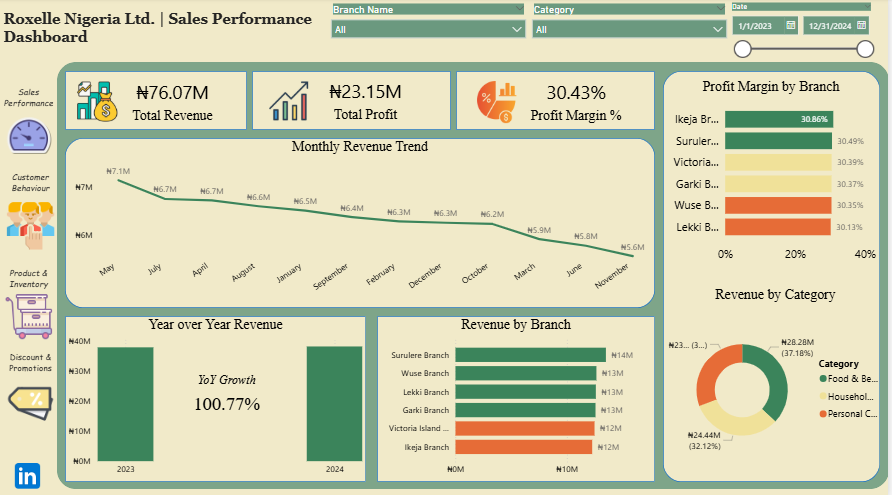

The dashboard page shown, as its layout file describes it:
{"tool":"powerbi","page":{"name":"Sales Performance","canvas":[1280,720],"ordinal":0},"visuals":[{"type":"shape","box":[82.1,92.2,1198.1,614.9],"z":0},{"type":"shape","box":[954.7,105.1,312.5,591.8],"z":1000},{"type":"shape","box":[93.6,201.6,849.6,244.8],"z":2000},{"type":"shape","box":[93.6,457.9,433.4,239],"z":3000},{"type":"shape","box":[542.9,457.9,400.3,239],"z":4000},{"type":"shape","box":[93.6,105.1,262.1,85],"z":5000},{"type":"slicer","fields":{"Values":["branches.Branch Name"]},"box":[466.6,2.9,301,90.7],"z":6000},{"type":"slicer","fields":{"Values":["date.Date"]},"box":[1041.1,1.4,226.1,92.2],"z":7000},{"type":"slicer","fields":{"Values":["products.Category"]},"box":[756,2.9,301,90.7],"z":8000},{"type":"shape","box":[362.9,105.1,286.6,85],"z":9000},{"type":"shape","box":[656.6,105.1,286.6,85],"z":10000},{"type":"card","title":"Total Revenue","fields":{"Values":["Measure.Total Revenue"]},"box":[141.1,105.1,214.6,85],"z":11000},{"type":"card","title":"Total Profit","fields":{"Values":["Measure.Total Profit"]},"box":[403.2,102.2,246.2,87.8],"z":12000},{"type":"card","title":"Profit Margin","fields":{"Values":["Measure.Profit Margin %"]},"box":[715.7,105.1,227.5,85],"z":13000},{"type":"lineChart","title":"Monthly Revenue Trend","fields":{"Category":["date.Date.Variation.Date Hierarchy.Month"],"Y":["Measure.Total Revenue"]},"box":[93.6,201.6,849.6,241.9],"z":14000},{"type":"clusteredBarChart","title":"Profit Margin by Branch","fields":{"Category":["branches.Branch Name"],"Y":["Measure.Profit Margin %"]},"box":[953.3,115.2,313.9,273.6],"z":15000},{"type":"donutChart","title":" Revenue by Category","fields":{"Category":["products.Category"],"Y":["Measure.Total Revenue"]},"box":[953.3,414.7,326.9,282.2],"z":16000},{"type":"clusteredBarChart","title":"Revenue by Branch","fields":{"Y":["Measure.Total Revenue"],"Category":["branches.Branch Name"]},"box":[542.9,457.9,400.3,239],"z":17000},{"type":"clusteredColumnChart","title":"Year over Year Revenue","fields":{"Category":["date.Date.Variation.Date Hierarchy.Year"],"Y":["Measure.Total Revenue"]},"box":[93.6,457.9,433.4,239],"z":18000},{"type":"card","title":"YoY Growth","fields":{"Values":["Measure.YoY Revenue %"]},"box":[82.1,541.4,488.2,70.6],"z":19000},{"type":"textbox","box":[0,13,466.6,79.2],"z":20000},{"type":"image","box":[105.1,115.2,70.6,67.7],"z":21000},{"type":"image","box":[365.8,115.2,100.8,66.2],"z":22000},{"type":"image","box":[676.8,112.3,77.8,74.9],"z":23000},{"type":"image","title":"Sales Performance","box":[0,126.7,82.1,110.9],"z":24000},{"type":"image","title":"Customer Behaviour","box":[0,249.6,87.8,125.3],"z":26000},{"type":"image","title":"Product & Inventory","box":[0,386.9,82.1,109.4],"z":27000},{"type":"image","title":"Discount & Promotions","box":[0,508.3,87.8,119.5],"z":27001},{"type":"image","box":[10.1,656.6,59,63.4],"z":27002}]}

Visuals, with their boxes in screenshot pixels (x1, y1, x2, y2), scaled from the page's 1280x720 canvas onto the 892x495 screenshot:
shape: [x1=57, y1=63, x2=891, y2=486]
shape: [x1=665, y1=72, x2=883, y2=479]
shape: [x1=65, y1=139, x2=657, y2=307]
shape: [x1=65, y1=315, x2=367, y2=479]
shape: [x1=378, y1=315, x2=657, y2=479]
shape: [x1=65, y1=72, x2=248, y2=131]
slicer - branches.Branch Name: [x1=325, y1=2, x2=535, y2=64]
slicer - date.Date: [x1=726, y1=1, x2=883, y2=64]
slicer - products.Category: [x1=527, y1=2, x2=737, y2=64]
shape: [x1=253, y1=72, x2=453, y2=131]
shape: [x1=458, y1=72, x2=657, y2=131]
"Total Revenue" card: [x1=98, y1=72, x2=248, y2=131]
"Total Profit" card: [x1=281, y1=70, x2=453, y2=131]
"Profit Margin" card: [x1=499, y1=72, x2=657, y2=131]
"Monthly Revenue Trend" lineChart: [x1=65, y1=139, x2=657, y2=305]
"Profit Margin by Branch" clusteredBarChart: [x1=664, y1=79, x2=883, y2=267]
" Revenue by Category" donutChart: [x1=664, y1=285, x2=891, y2=479]
"Revenue by Branch" clusteredBarChart: [x1=378, y1=315, x2=657, y2=479]
"Year over Year Revenue" clusteredColumnChart: [x1=65, y1=315, x2=367, y2=479]
"YoY Growth" card: [x1=57, y1=372, x2=397, y2=421]
textbox: [x1=0, y1=9, x2=325, y2=63]
image: [x1=73, y1=79, x2=122, y2=126]
image: [x1=255, y1=79, x2=325, y2=125]
image: [x1=472, y1=77, x2=526, y2=129]
"Sales Performance" image: [x1=0, y1=87, x2=57, y2=163]
"Customer Behaviour" image: [x1=0, y1=172, x2=61, y2=258]
"Product & Inventory" image: [x1=0, y1=266, x2=57, y2=341]
"Discount & Promotions" image: [x1=0, y1=349, x2=61, y2=432]
image: [x1=7, y1=451, x2=48, y2=494]
